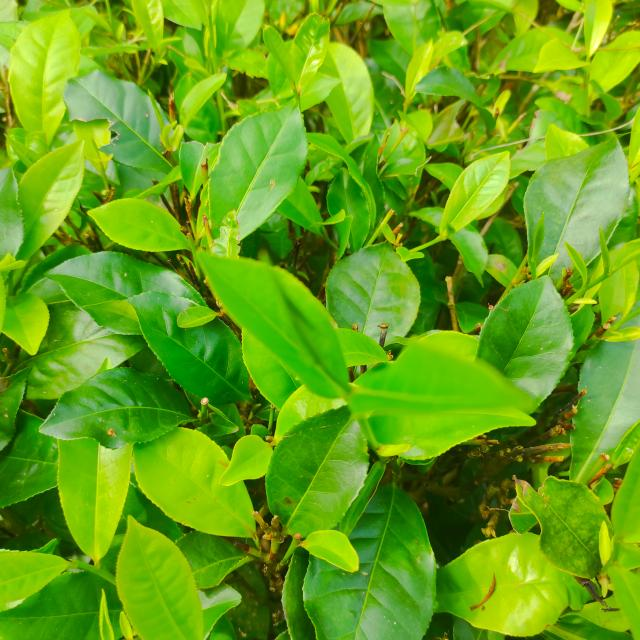unopened_leaf: (254, 243, 358, 400), (592, 222, 618, 278), (0, 248, 36, 282), (155, 32, 191, 52), (438, 215, 461, 241)
